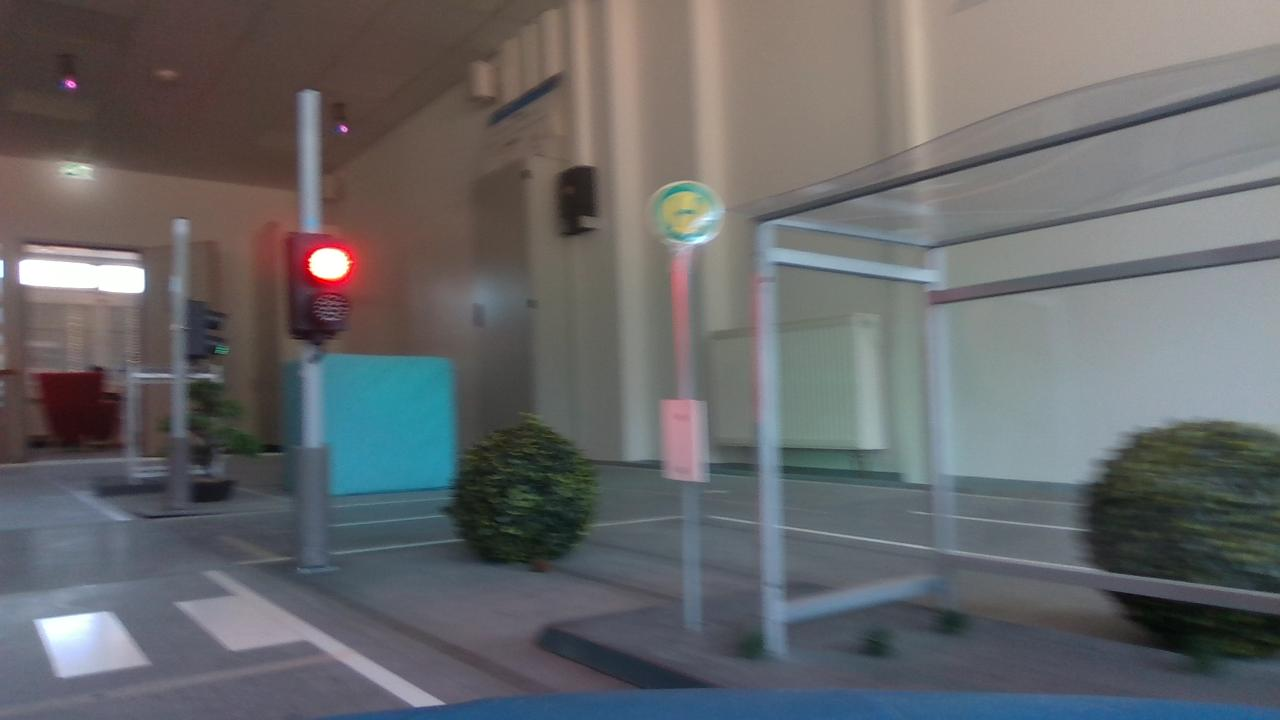traffic_light_red: (263, 222, 369, 351)
